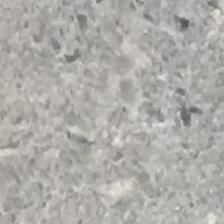Non_Crack: (25, 0, 224, 223)
